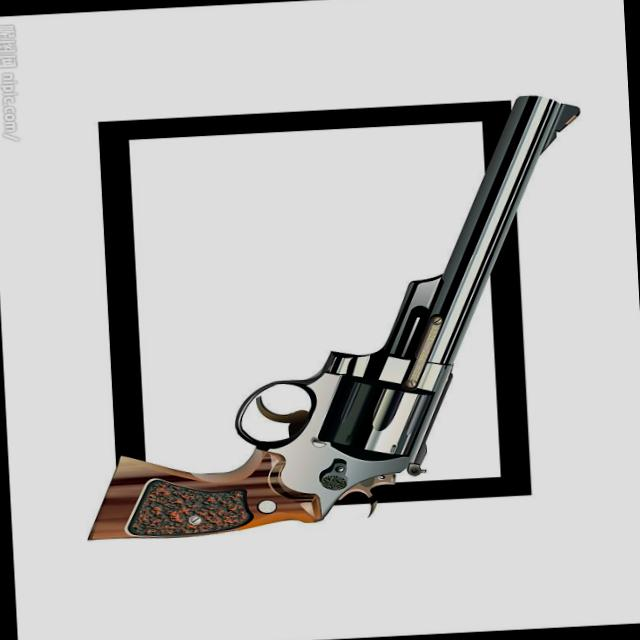handgun: (60, 91, 607, 544)
